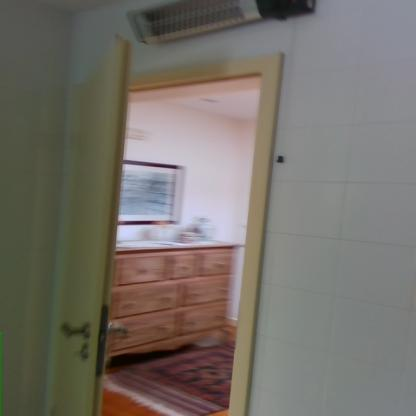semi: (50, 32, 298, 415)
